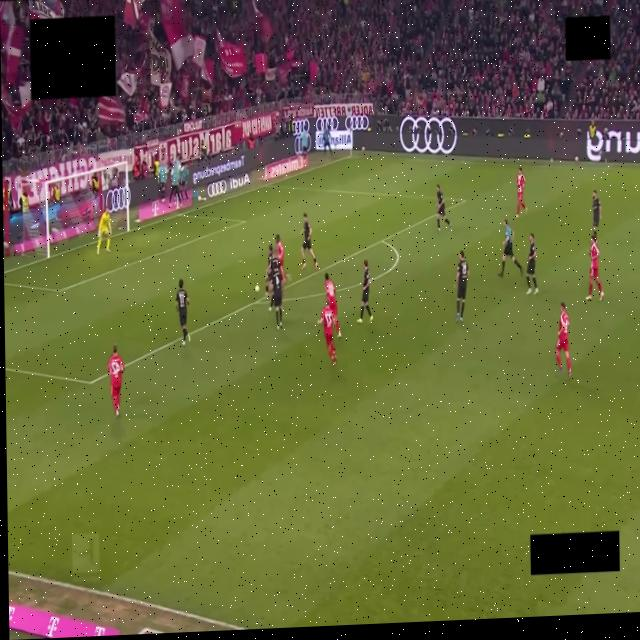ball: (254, 285, 258, 292)
player: (107, 344, 125, 418), (318, 298, 336, 364), (586, 234, 603, 301), (267, 248, 285, 311), (556, 303, 570, 379), (324, 273, 340, 337), (357, 260, 372, 323), (175, 279, 189, 345), (455, 251, 467, 323), (301, 213, 316, 270), (525, 233, 538, 295), (270, 270, 282, 330), (436, 185, 451, 231), (97, 208, 111, 254), (591, 190, 601, 235), (516, 168, 525, 217), (265, 245, 272, 298), (276, 235, 283, 271)
referee: (497, 219, 521, 277)
